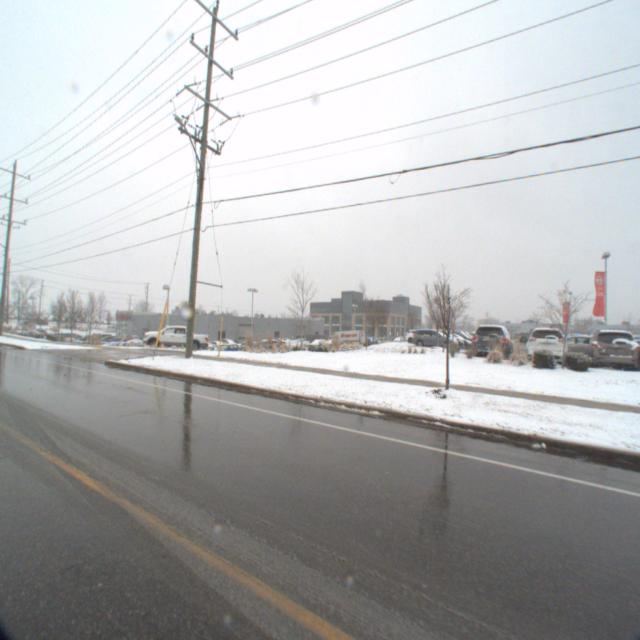Car: (523, 325, 567, 374), (466, 322, 512, 367), (537, 334, 604, 364), (408, 329, 453, 350)
Truck: (134, 328, 206, 357), (327, 332, 365, 353)
